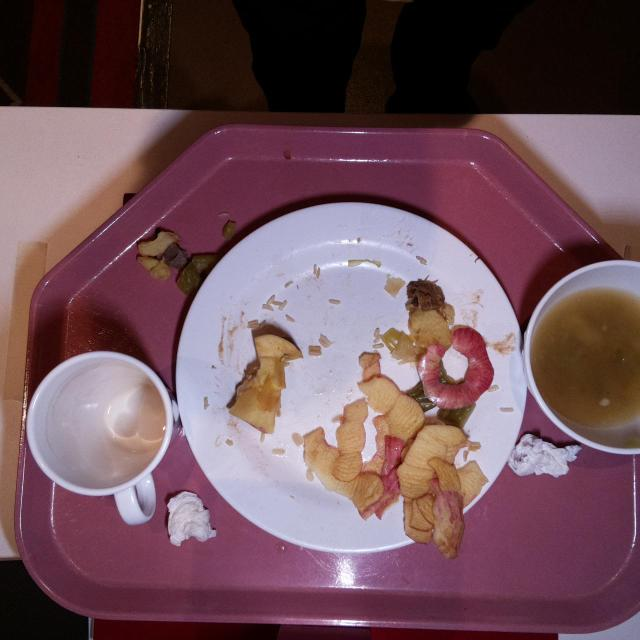Apple-core: (227, 331, 305, 433)
Apple-peel: (399, 423, 467, 559), (419, 327, 493, 411), (362, 358, 416, 470), (330, 398, 366, 484), (351, 464, 395, 520)
